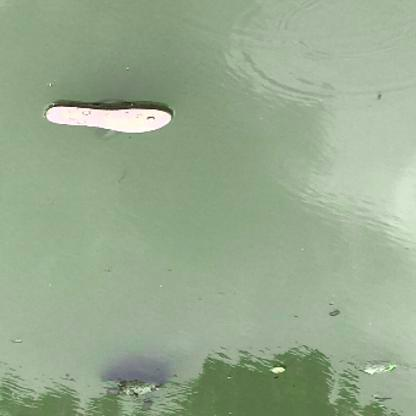Trash: (45, 98, 179, 134), (364, 355, 396, 377)
